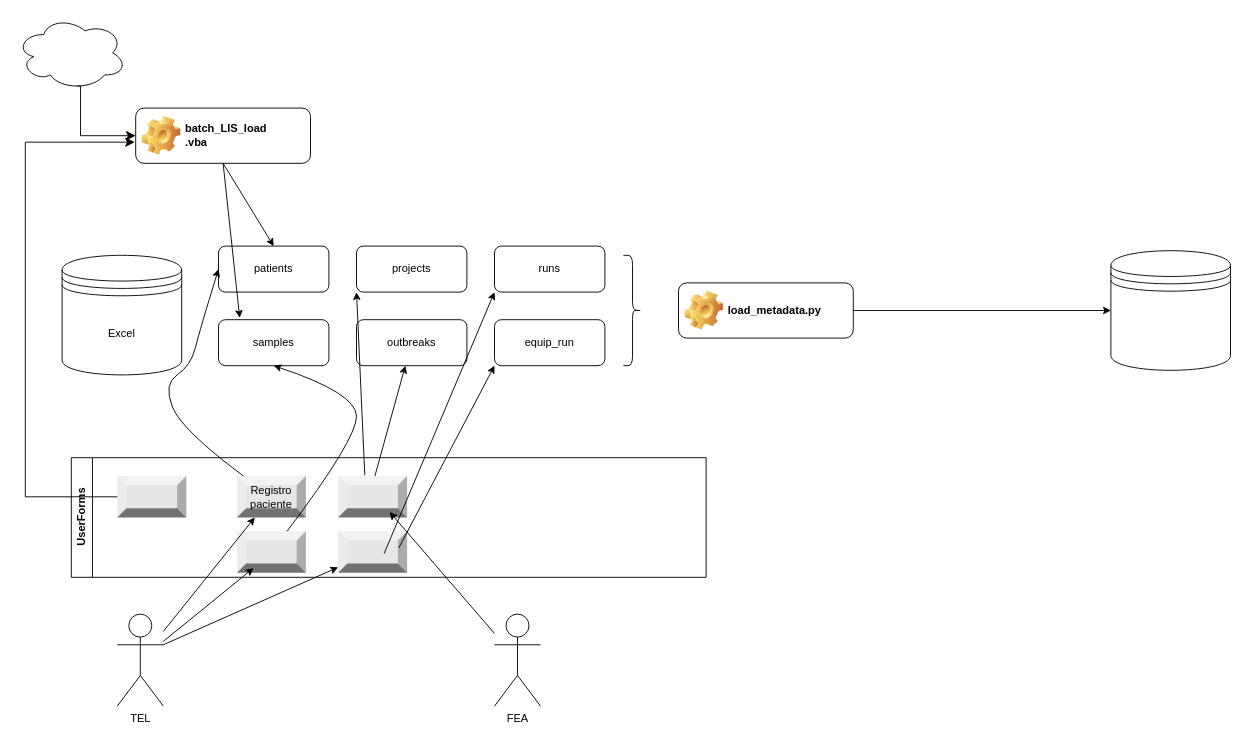
Image size: 1247x742. Some labels were removed from this diagram. Here are the shapes that lost their labels. From the top down, the centre of each, then its label:
pixel 70 52: LIS
pixel 1170 310: Central Database
pixel 151 496: Actualizar metadatos
pixel 372 496: Crear proyecto
pixel 270 551: Registro muestra
pixel 372 551: Crear run
